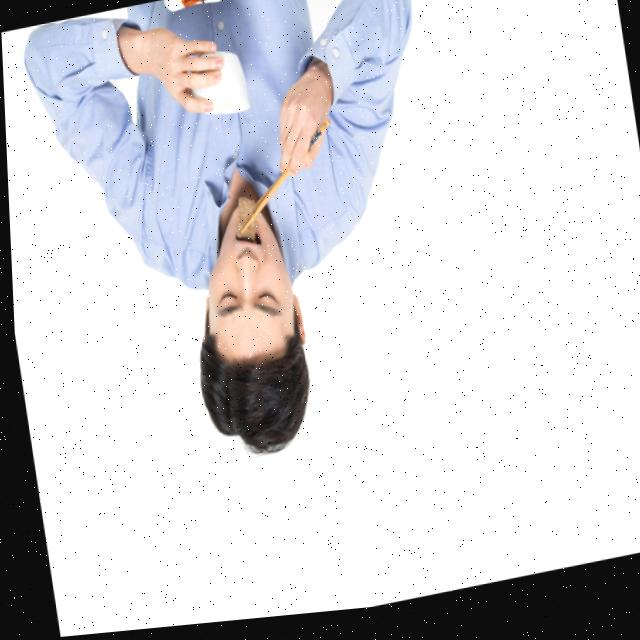eating-person: (7, 0, 467, 524)
